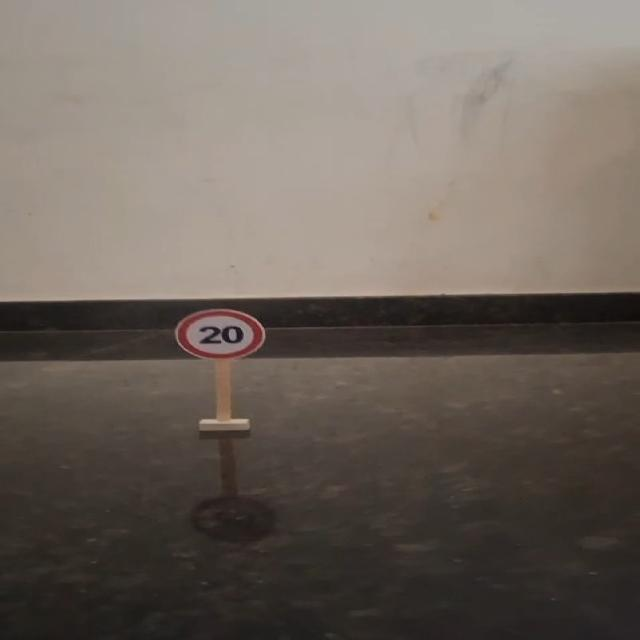Speed20: (169, 304, 275, 364)
